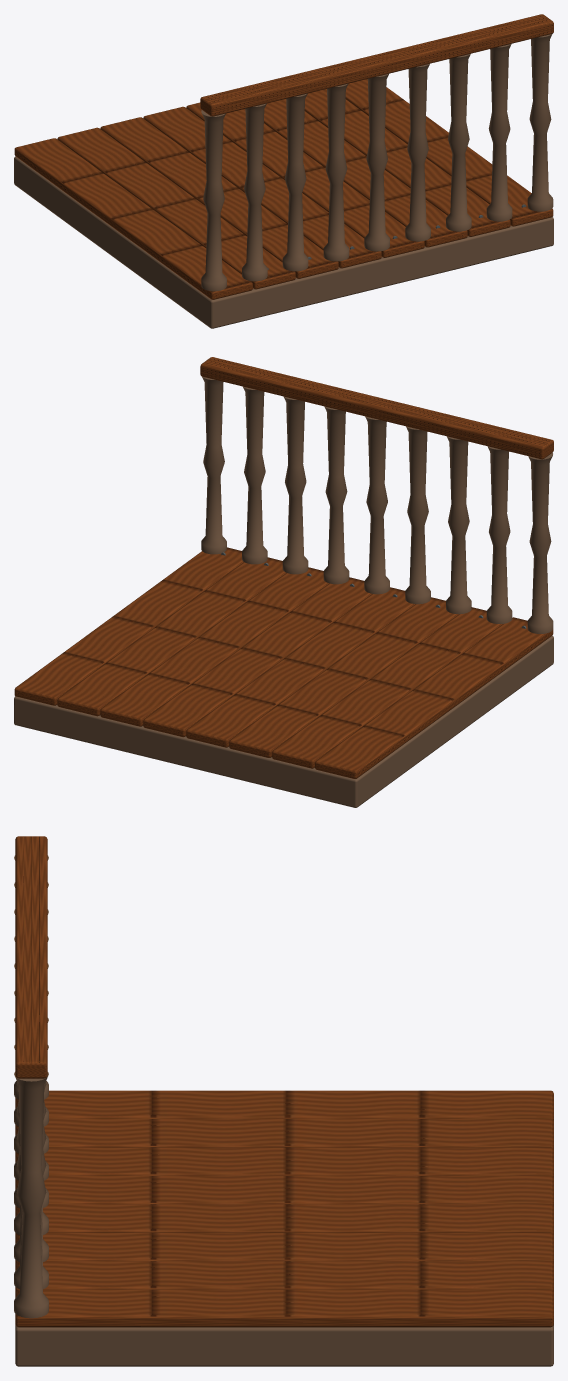
Rendered from adventurers-tavern-and-guild-hall-stair-landing-57974e1b__24674.glb.
3 views of the same model, one above another, from view 1: azimuth 30°, elevation 25°; view 2: azimuth 150°, elevation 25°; view 3: azimuth 270°, elevation 25° (orthographic). The views are drawn at different scales.
Visible parts, largest first — view 1: stair-landing; view 2: stair-landing; view 3: stair-landing.
Part boxes in pixels (<box>): stair-landing: <box>14,14,553,328</box>; stair-landing: <box>14,357,553,807</box>; stair-landing: <box>14,836,553,1366</box>.
Size of the model in its own units: 2.03 by 1.25 by 2.
Materials: 3 (1 with a texture image).
